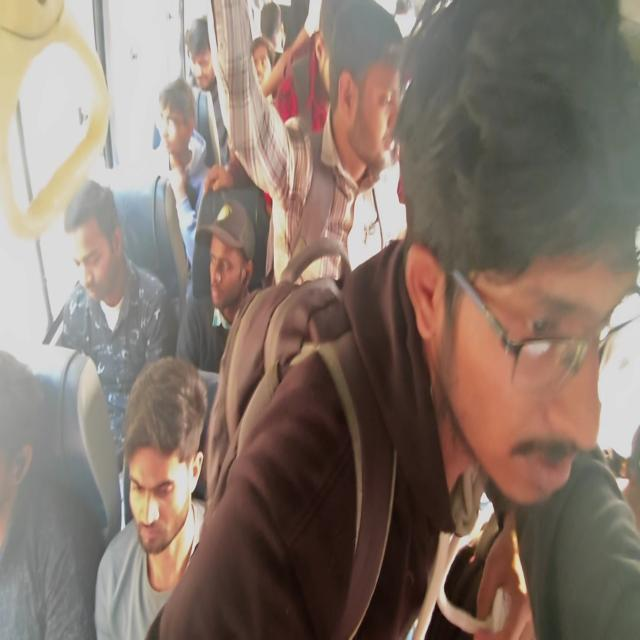person: (145, 0, 639, 638), (208, 0, 405, 287), (43, 178, 176, 528), (427, 441, 639, 639), (93, 356, 208, 638), (0, 348, 91, 638), (175, 195, 259, 374), (157, 77, 212, 290), (184, 15, 230, 168)
